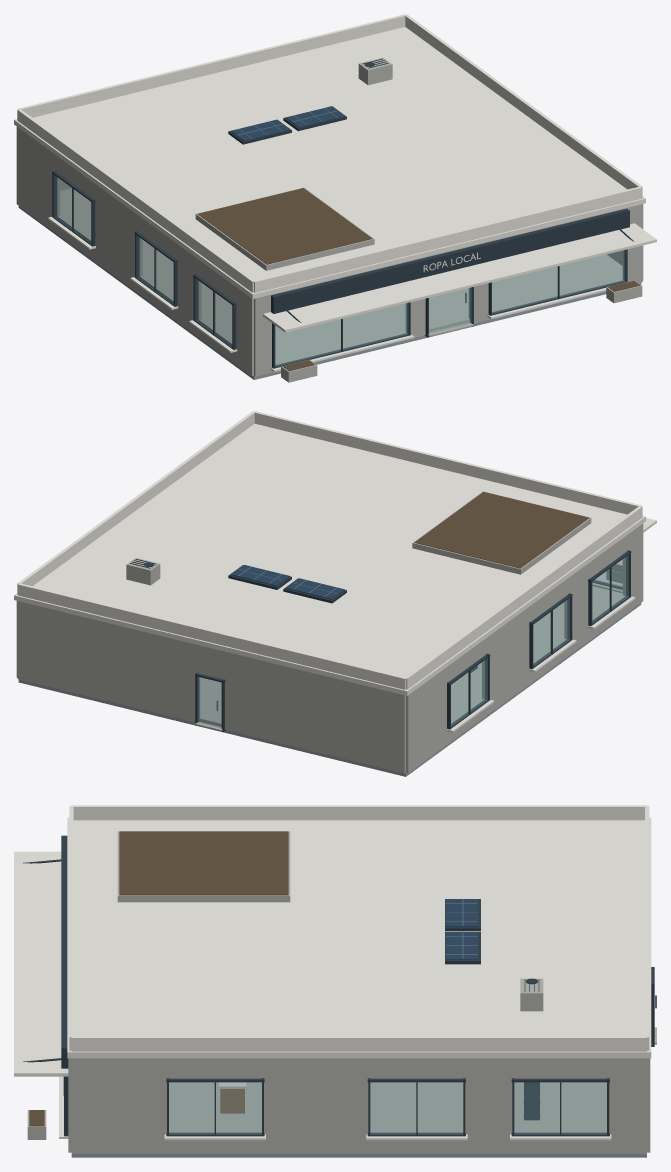
Rendered from Shop_10.fbx.
The picture shows the model from 3 angles, top to bottom: view 1: azimuth 30°, elevation 25°; view 2: azimuth 150°, elevation 25°; view 3: azimuth 270°, elevation 25°; orthographic projection. The views are drawn at different scales.
Visible parts, largest first — view 1: Shop_10; view 2: Shop_10; view 3: Shop_10.
Part boxes in pixels (x1,y1,x2,y2): Shop_10: (14,14,656,382); Shop_10: (14,411,656,776); Shop_10: (14,805,656,1157).
Bounding box in the file's own units: 19.87 × 4.87 × 22.35.
